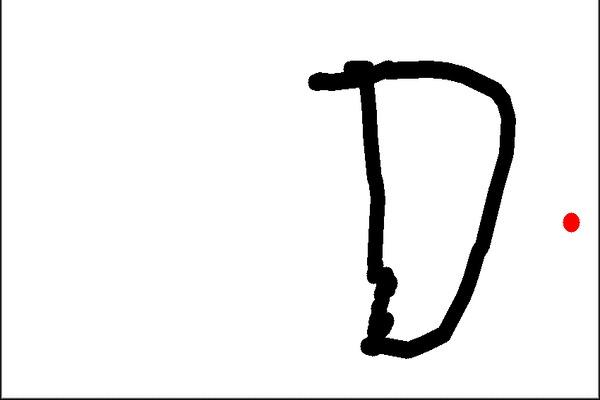D: (303, 54, 523, 361)
